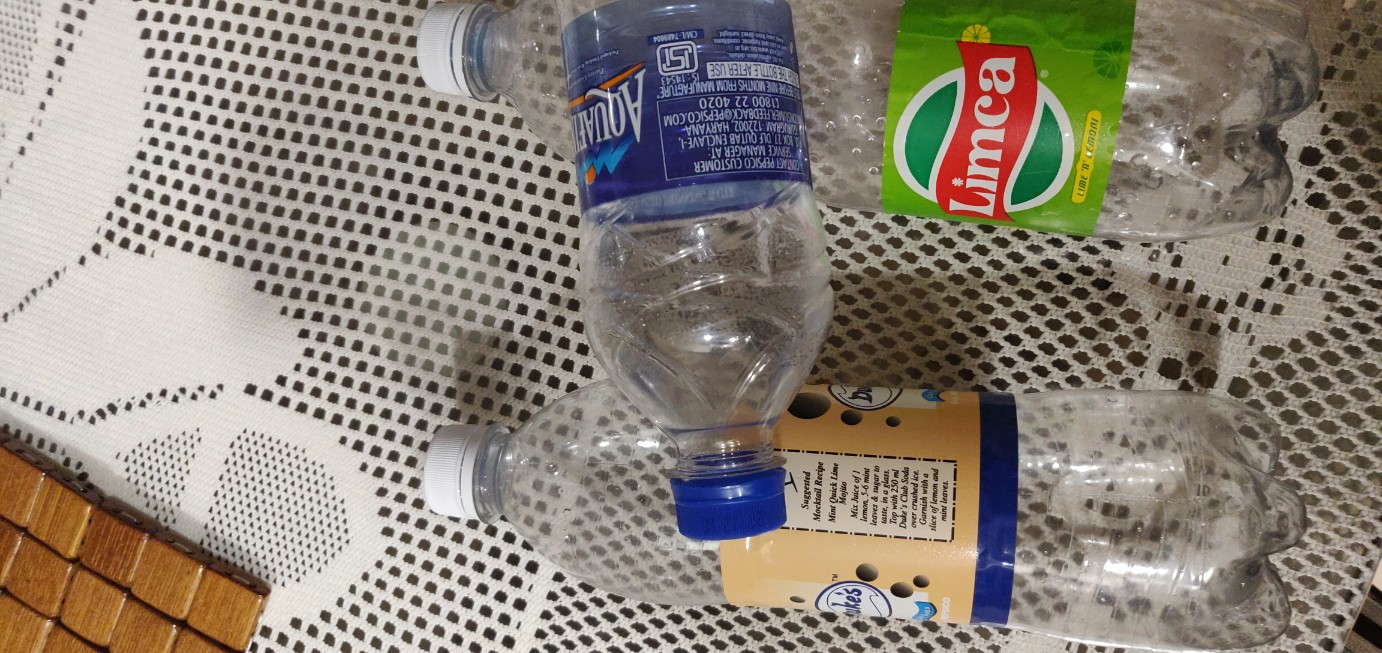Electronics: (390, 359, 1332, 653), (408, 5, 1341, 267), (537, 4, 847, 569)
